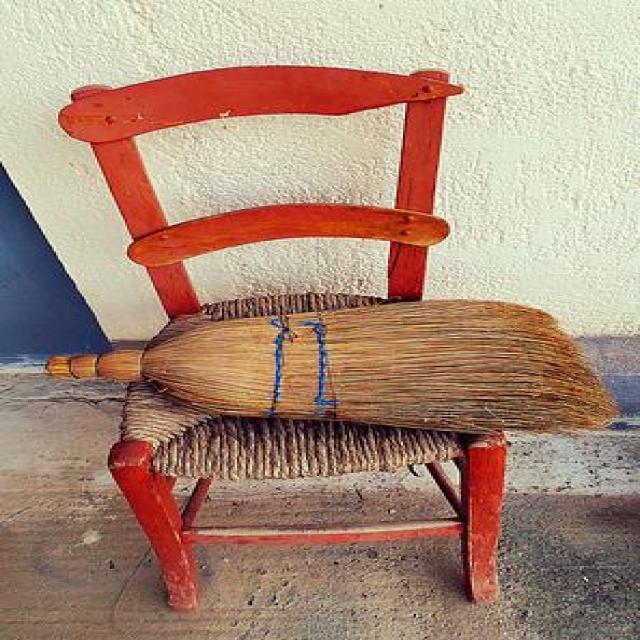chair: (45, 64, 621, 612)
